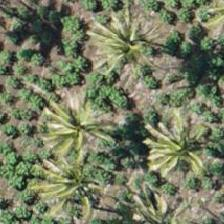coconut_tree: (136, 103, 223, 193), (82, 0, 172, 87), (47, 164, 137, 223), (132, 174, 222, 223)
